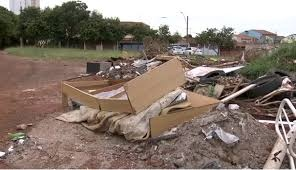rubble: (78, 49, 245, 126)
